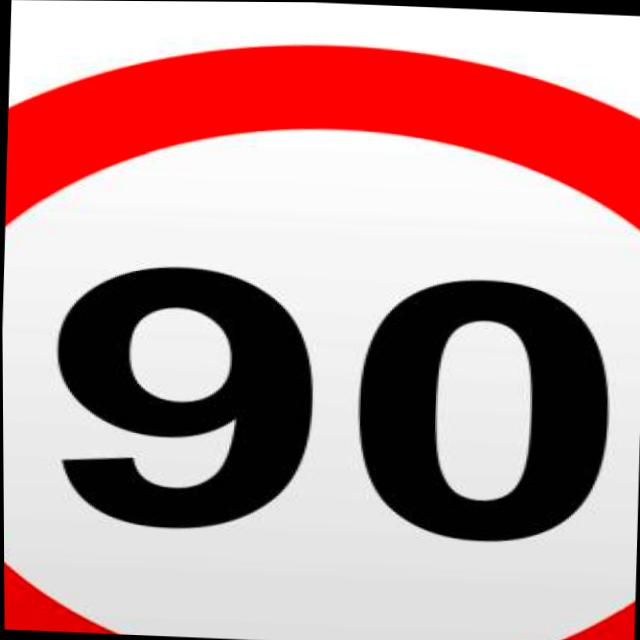Speed Limit -90-: (0, 17, 640, 640)
